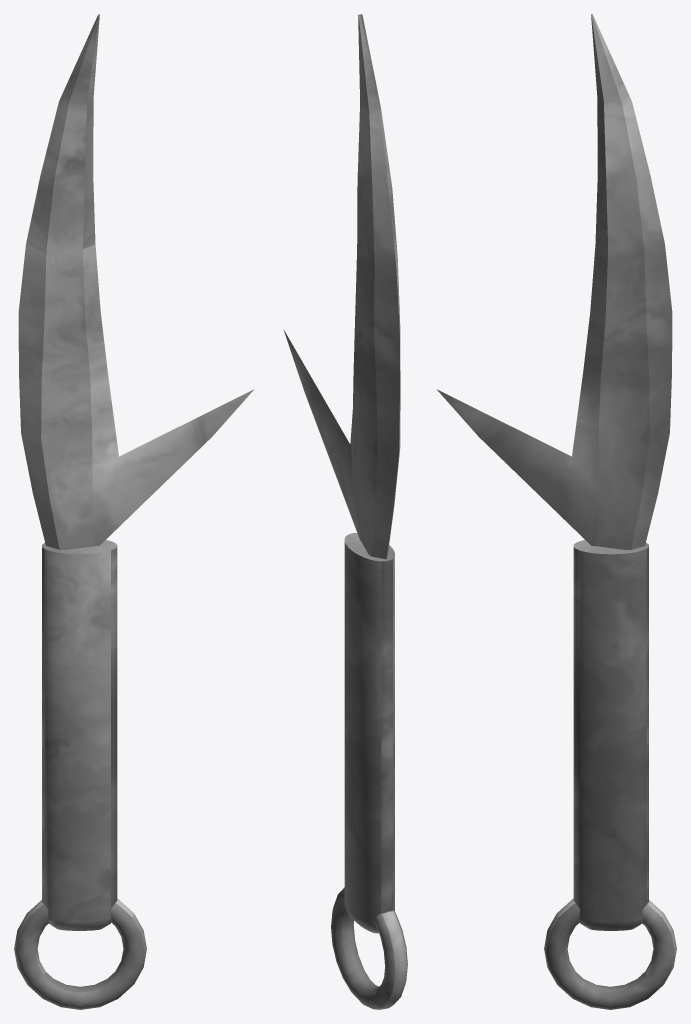
Rendered from SM_knife_01.fbx.
3 views of the same model, side by side, from view 1: azimuth 90°, elevation 25°; view 2: azimuth 210°, elevation 25°; view 3: azimuth 270°, elevation 25° (orthographic).
Visible parts, largest first — view 1: SM_knife_01; view 2: SM_knife_01; view 3: SM_knife_01.
Boxes of the visible parts, x1,y1,x2,y2 form: SM_knife_01: [14, 14, 254, 1009]; SM_knife_01: [283, 14, 407, 1009]; SM_knife_01: [436, 14, 676, 1009].
Size of the model in its own units: 1.69 by 10.19 by 46.42.
Materials: 1 (1 with a texture image).
